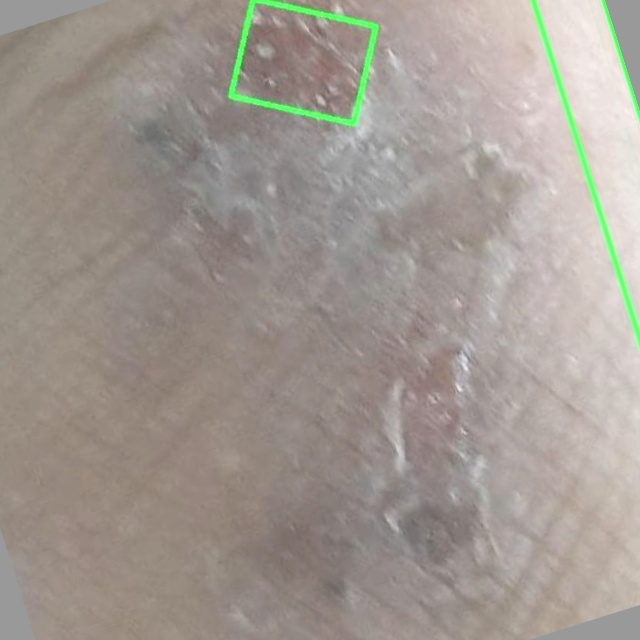Eczema: (231, 0, 376, 123)
